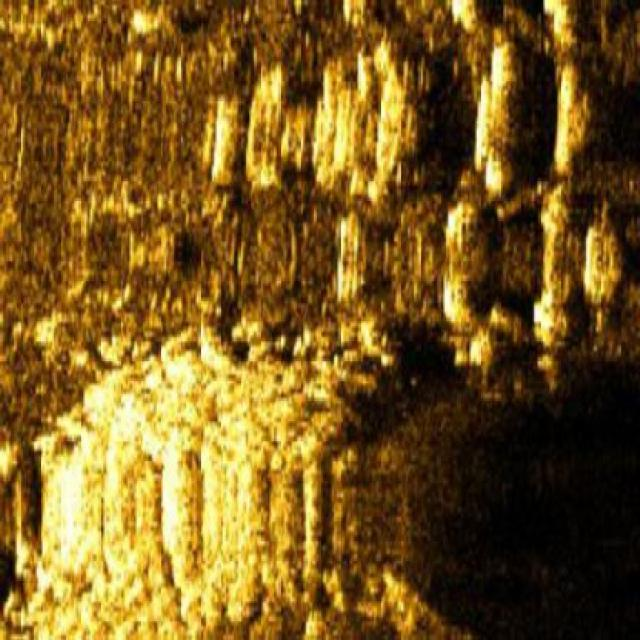bedrock group: (173, 0, 639, 368), (0, 313, 414, 639)
